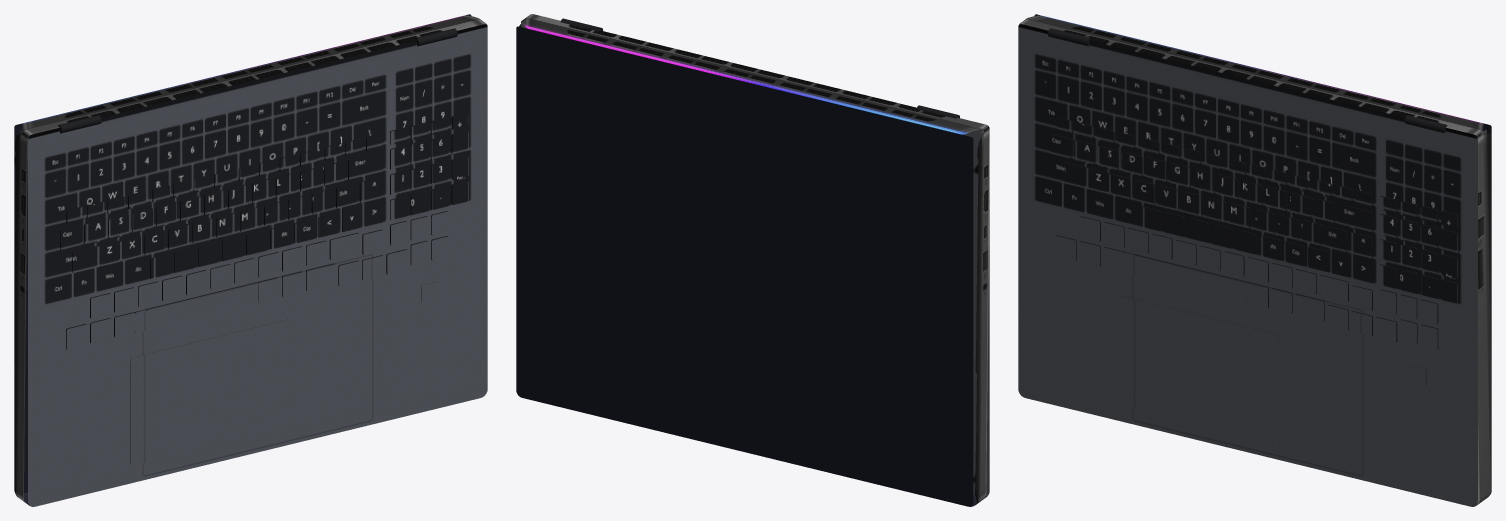
File: body.obj
3 renders of one model, left to right at view 1: azimuth 30°, elevation 25°; view 2: azimuth 150°, elevation 25°; view 3: azimuth 330°, elevation 25°, orthographic.
Visible parts, largest first — view 1: deck, keys.001, base.002, keys, base.003, base.004, hinge; view 2: base.004, base.002, base.003, deck; view 3: deck, keys.001, base.002, base.001, keys, hinge.
Part boxes in pixels (<box>): deck: <box>28,24,487,506</box>; keys.001: <box>60,113,468,349</box>; base.002: <box>22,15,486,135</box>; keys: <box>60,112,468,349</box>; base.003: <box>14,130,27,502</box>; base.004: <box>14,14,471,493</box>; hinge: <box>58,28,457,133</box>; base.004: <box>516,26,973,506</box>; base.002: <box>524,14,988,134</box>; base.003: <box>973,127,989,504</box>; deck: <box>962,126,989,496</box>; deck: <box>1018,24,1477,506</box>; keys.001: <box>1049,118,1457,348</box>; base.002: <box>1019,15,1483,135</box>; base.001: <box>1476,130,1491,505</box>; keys: <box>1050,117,1458,348</box>; hinge: <box>1048,28,1447,133</box>.
Bounding box in the file's own units: 358 × 279 × 23.25.
